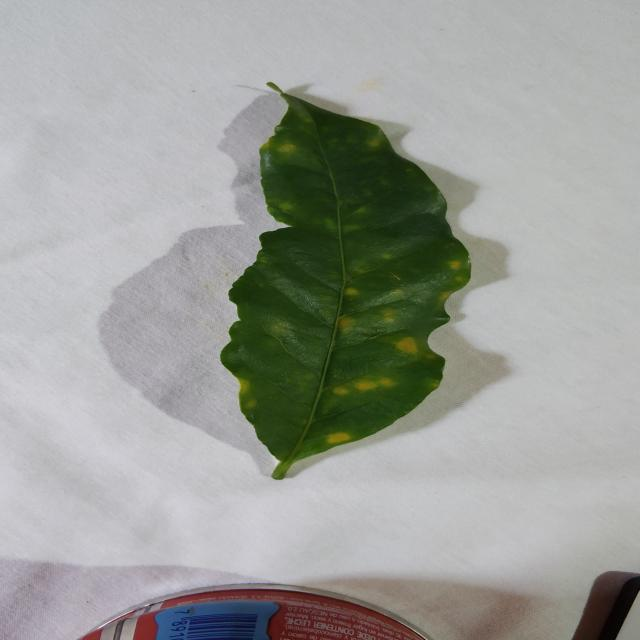Enfermedad-Roya: (219, 84, 473, 482)
